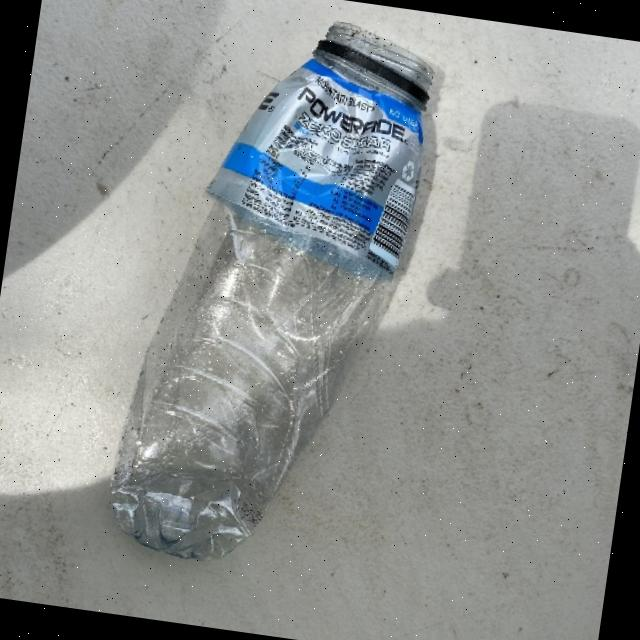plastic: (100, 0, 441, 584)
